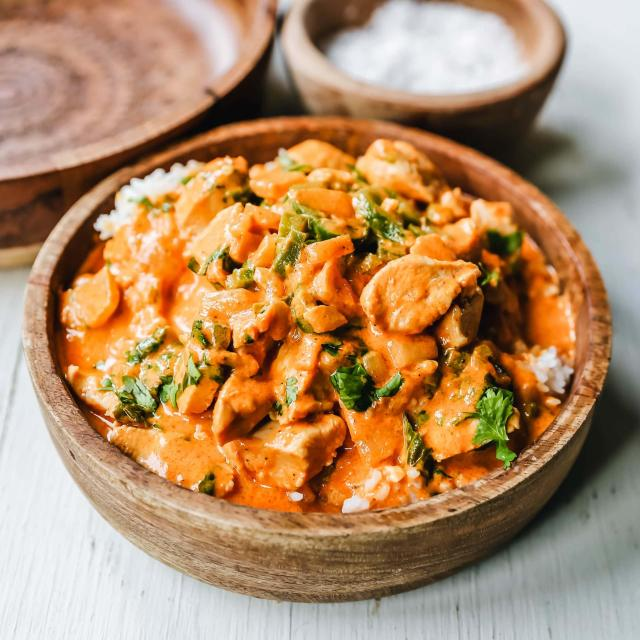chicken: (70, 180, 602, 501)
